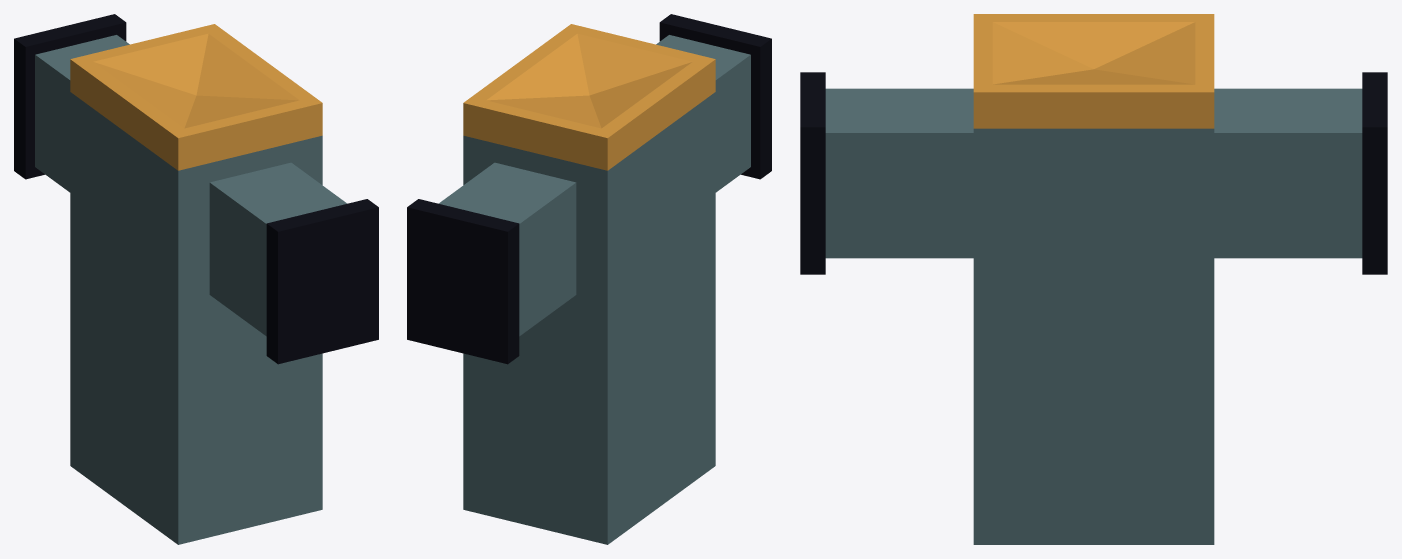
File: Totem.fbx
3 views of the same model, side by side, from view 1: azimuth 30°, elevation 25°; view 2: azimuth 150°, elevation 25°; view 3: azimuth 270°, elevation 25° (orthographic). The views are drawn at different scales.
Parts seen in each view (by area): view 1: Totem; view 2: Totem; view 3: Totem.
Part boxes in pixels (box(x1,y1,x2,y2)): Totem: box(14, 14, 378, 544); Totem: box(407, 14, 771, 544); Totem: box(800, 14, 1387, 544).
Bounding box in the file's own units: 0.3863 × 1.04 × 1.22.
